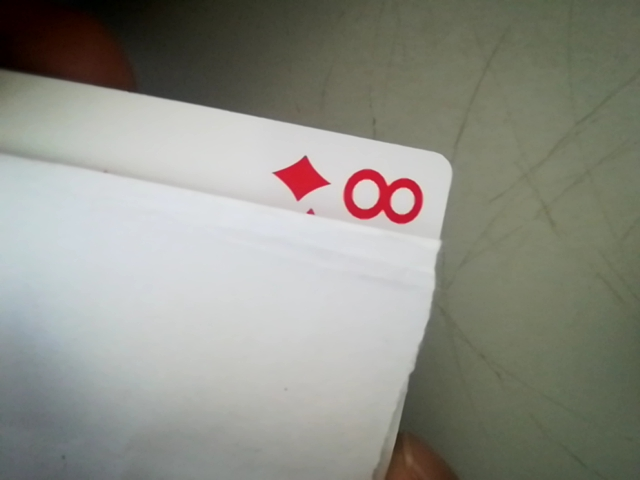fk 8: (297, 154, 437, 234)
